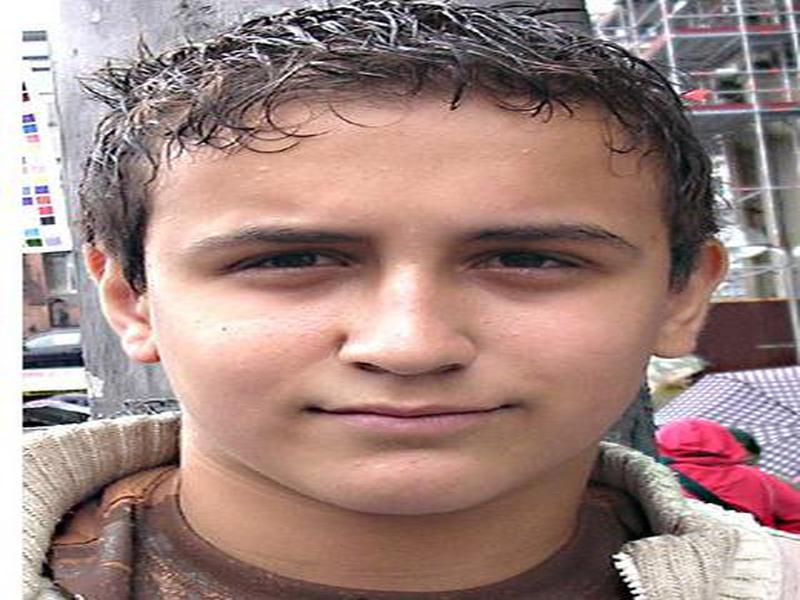without_mask: (146, 110, 657, 521)
